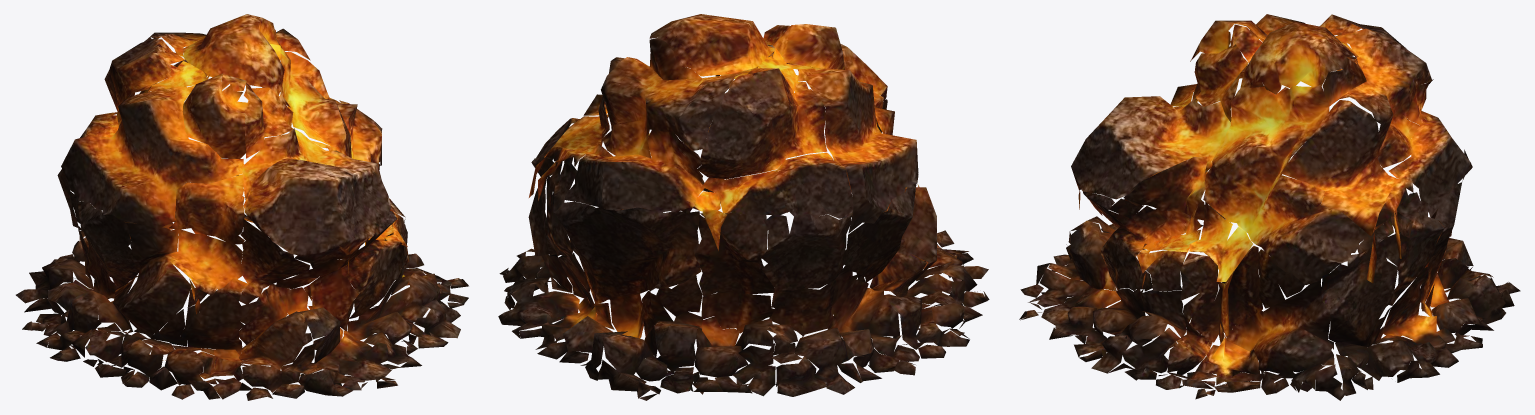
File: dep_bitcoin.glb
3 renders of one model, left to right at view 1: azimuth 30°, elevation 25°; view 2: azimuth 150°, elevation 25°; view 3: azimuth 270°, elevation 25°, orthographic. The views are drawn at different scales.
Parts seen in each view (by area): view 1: tripo_node_0e5d3669-b67c-43ab-a629-46db062079a4; view 2: tripo_node_0e5d3669-b67c-43ab-a629-46db062079a4; view 3: tripo_node_0e5d3669-b67c-43ab-a629-46db062079a4.
Part boxes in pixels (left/top/right/bottom): tripo_node_0e5d3669-b67c-43ab-a629-46db062079a4: left=16, top=14, right=468, bottom=400; tripo_node_0e5d3669-b67c-43ab-a629-46db062079a4: left=498, top=14, right=989, bottom=400; tripo_node_0e5d3669-b67c-43ab-a629-46db062079a4: left=1019, top=14, right=1520, bottom=400.
Size of the model in its own units: 0.9598 by 0.6329 by 1.02.
Materials: 1 (1 with a texture image).
